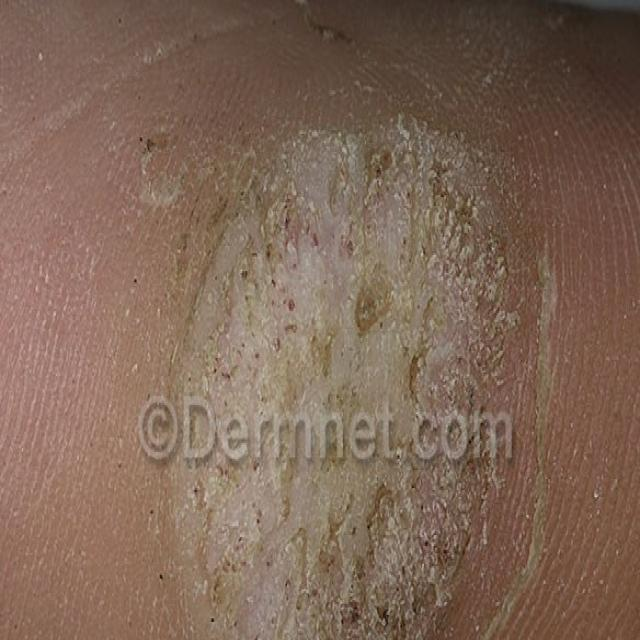Warts: (156, 96, 545, 640)
